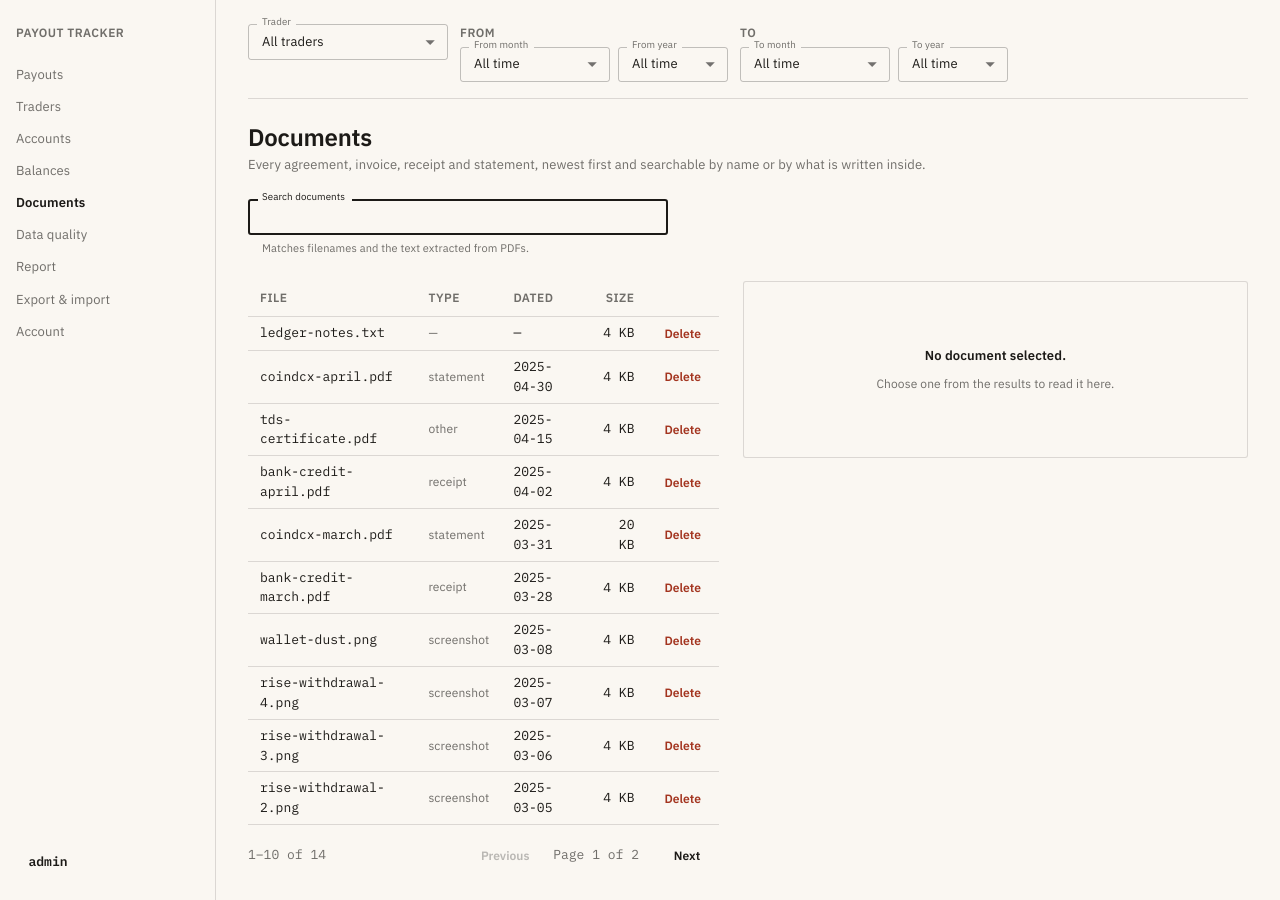
Test: the document register (F31) › carries on to the rest, and back again
The width and height of the screenshot is (1280, 900).
Expected: the text "coindcx-march.pdf" is shown, [260,526,393,543]
Click the button "Next" at [687, 856], box [655,841,719,870]
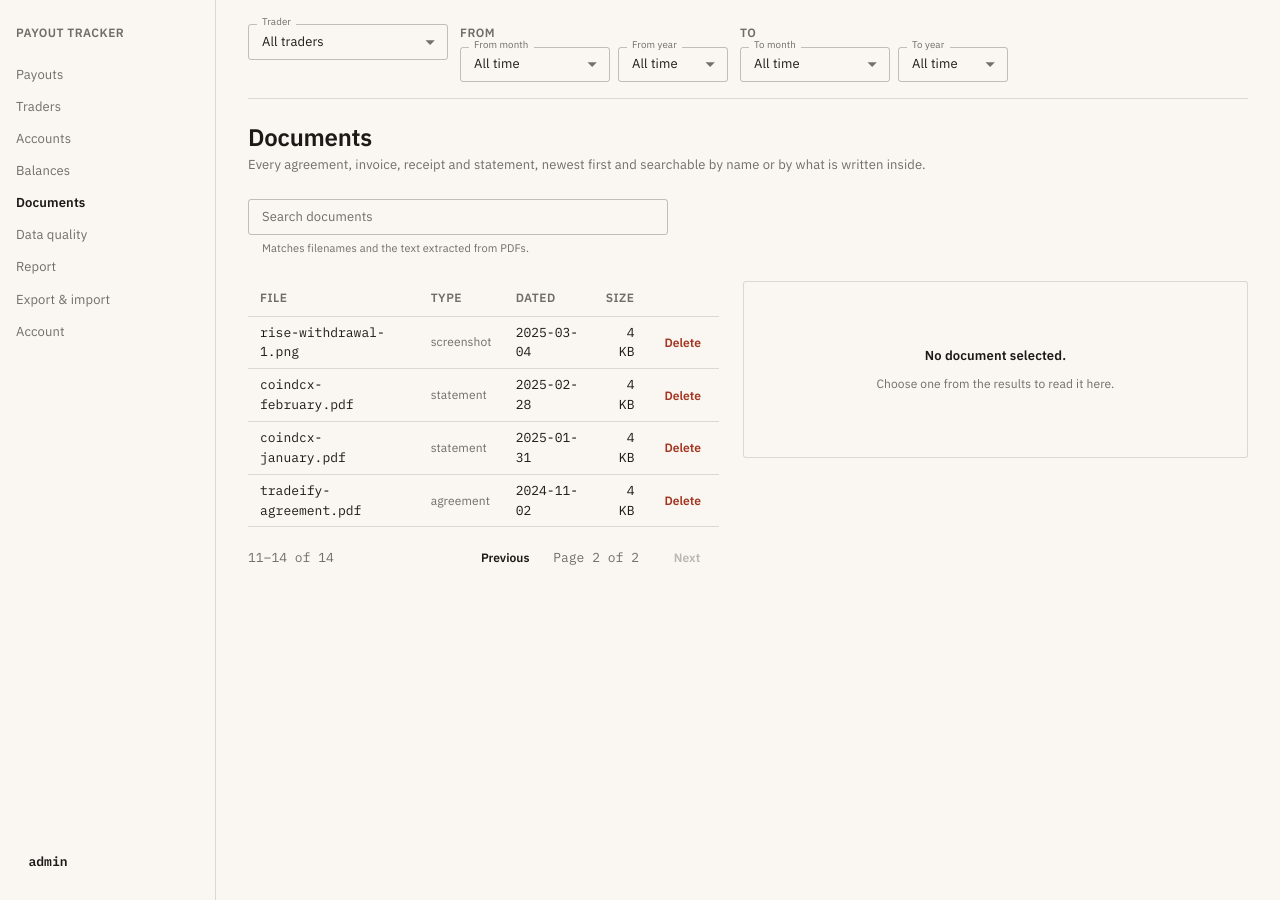
Expected: the text "11–14 of 14" is shown, [248,548,334,567]
Expected: the text "tradeify-agreement.pdf" is shown, [260,482,361,518]
Expected: the text "coindcx-march.pdf" is gone
Click the button "Previous" at [505, 558], box [473,543,537,572]
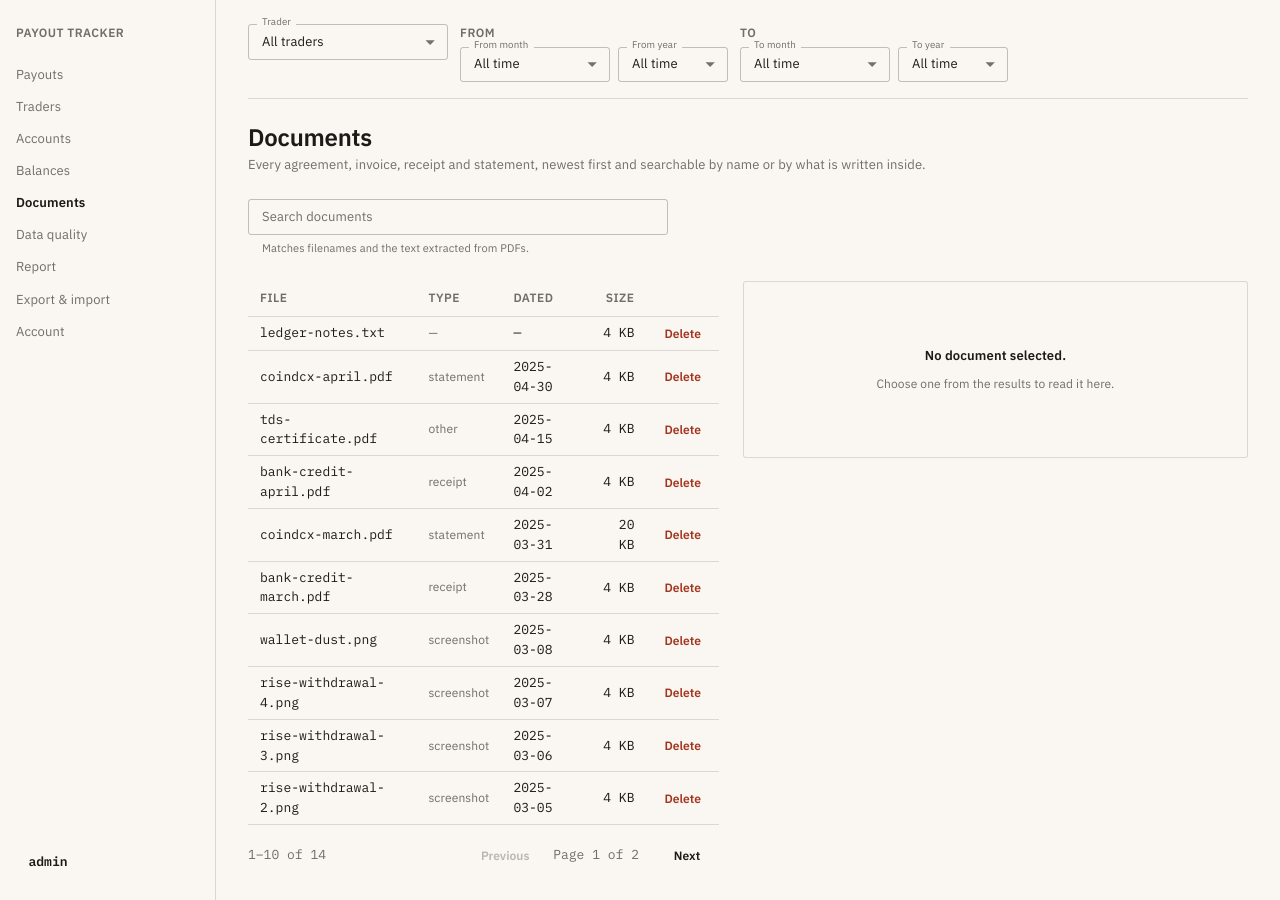
Expected: the text "1–10 of 14" is shown, [248,846,326,865]
